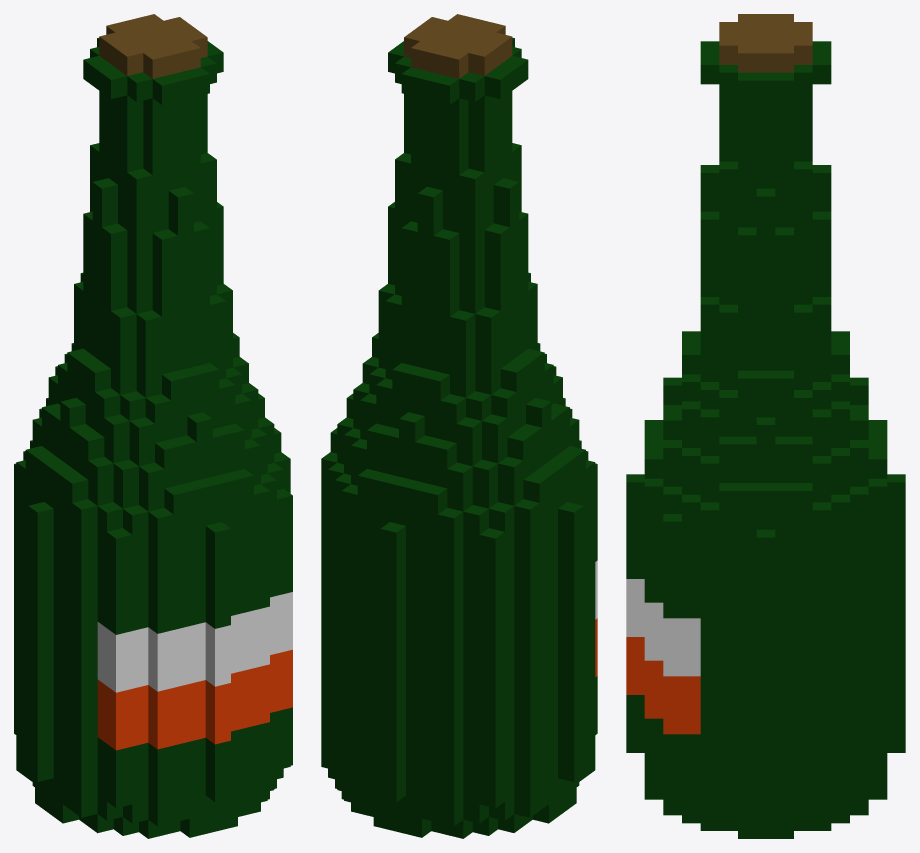
The model's file is bottle.fbx.
3 views of the same model, side by side, from view 1: azimuth 30°, elevation 25°; view 2: azimuth 150°, elevation 25°; view 3: azimuth 270°, elevation 25° (orthographic).
Visible parts, largest first — view 1: Cylinder.001; view 2: Cylinder.001; view 3: Cylinder.001.
Boxes of the visible parts, <box> form: Cylinder.001: <box>14,14,292,838</box>; Cylinder.001: <box>321,14,597,838</box>; Cylinder.001: <box>626,14,905,838</box>.
Size of the model in its own units: 185 by 552 by 185.
